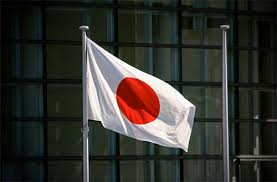Japanese Flag: (80, 35, 201, 154)
